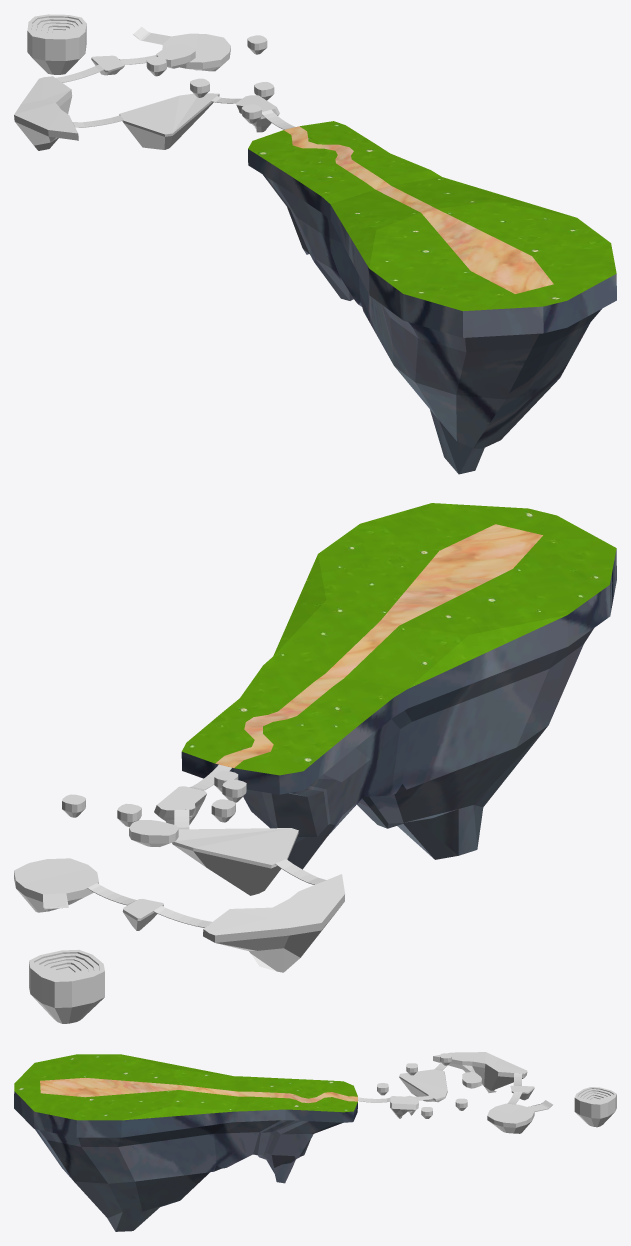
Rendered from Sketch lvl 1.fbx.
3 renders of one model, top to bottom at view 1: azimuth 30°, elevation 25°; view 2: azimuth 150°, elevation 25°; view 3: azimuth 270°, elevation 25°, orthographic. The views are drawn at different scales.
Visible parts, largest first — view 1: Grid, Grid.004, Grid.003, Cube.006, Grid.001, Cube.002, Grid.002; view 2: Grid, Grid.004, Grid.003, Cube.006, Grid.001, Grid.002, Cube.002, Grid.005; view 3: Grid, Grid.004, Cube.006, Grid.001, Grid.003, Grid.002, Cube.002.
Part boxes in pixels (box(x1,y1,x2,y2)): Grid: box(248, 121, 616, 474); Grid.004: box(14, 76, 78, 150); Grid.003: box(119, 93, 219, 149); Cube.006: box(27, 14, 86, 74); Grid.001: box(133, 27, 230, 71); Cube.002: box(156, 43, 195, 68); Grid.002: box(235, 95, 279, 132); Grid: box(181, 503, 616, 869); Grid.004: box(203, 874, 344, 972); Grid.003: box(172, 828, 298, 895); Cube.006: box(29, 949, 104, 1023); Grid.001: box(14, 858, 98, 912); Grid.002: box(154, 786, 206, 824); Cube.002: box(129, 820, 178, 846); Grid.005: box(122, 899, 163, 930); Grid: box(14, 1054, 357, 1231); Grid.004: box(433, 1052, 527, 1092); Cube.006: box(574, 1087, 616, 1127); Grid.001: box(487, 1100, 552, 1133); Grid.003: box(399, 1069, 447, 1102); Grid.002: box(390, 1095, 418, 1118); Cube.002: box(462, 1072, 481, 1088).
Bounding box in the file's own units: 3602 × 2909 × 10216.
Materials: 3 (3 with a texture image).
